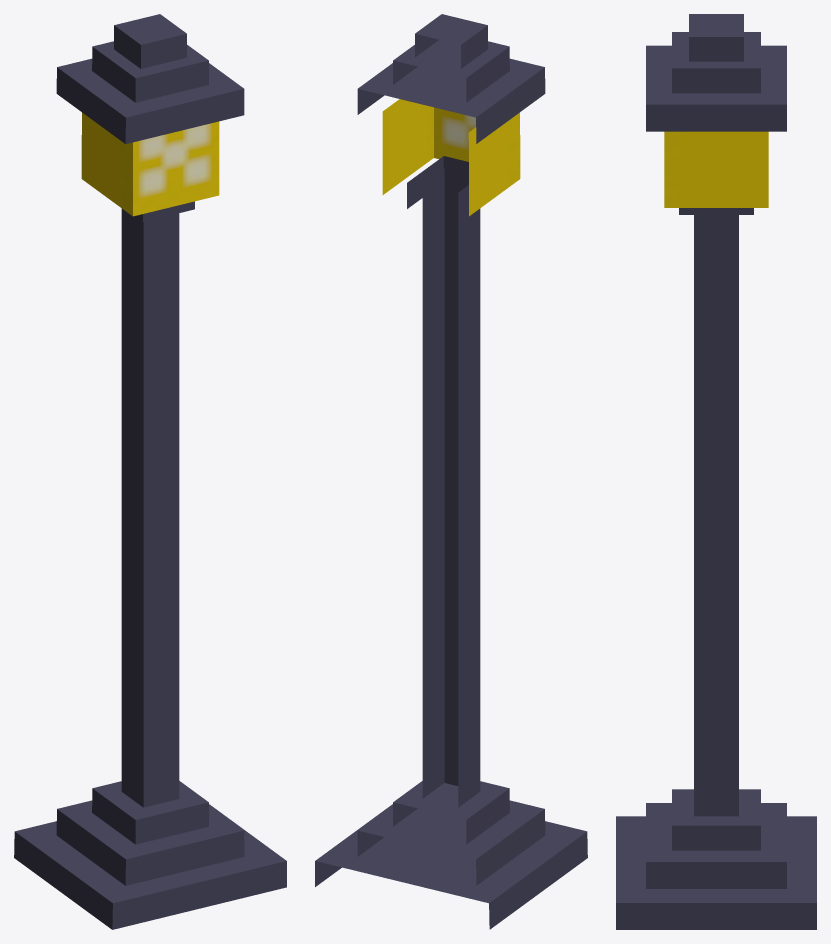
File: Farol_2.fbx
The picture shows the model from 3 angles, left to right: view 1: azimuth 30°, elevation 25°; view 2: azimuth 150°, elevation 25°; view 3: azimuth 270°, elevation 25°; orthographic projection. The views are drawn at different scales.
Visible parts, largest first — view 1: Farol; view 2: Farol; view 3: Farol.
Boxes of the visible parts, <box> form: Farol: <box>14,14,286,929</box>; Farol: <box>315,14,587,929</box>; Farol: <box>616,14,816,929</box>.
Bounding box in the file's own units: 0.819 × 3.78 × 0.7992.
